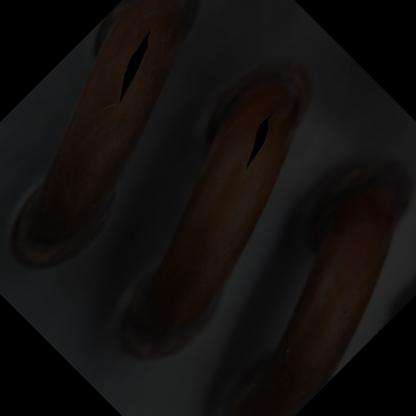burst: (227, 104, 291, 186), (109, 54, 164, 116)
